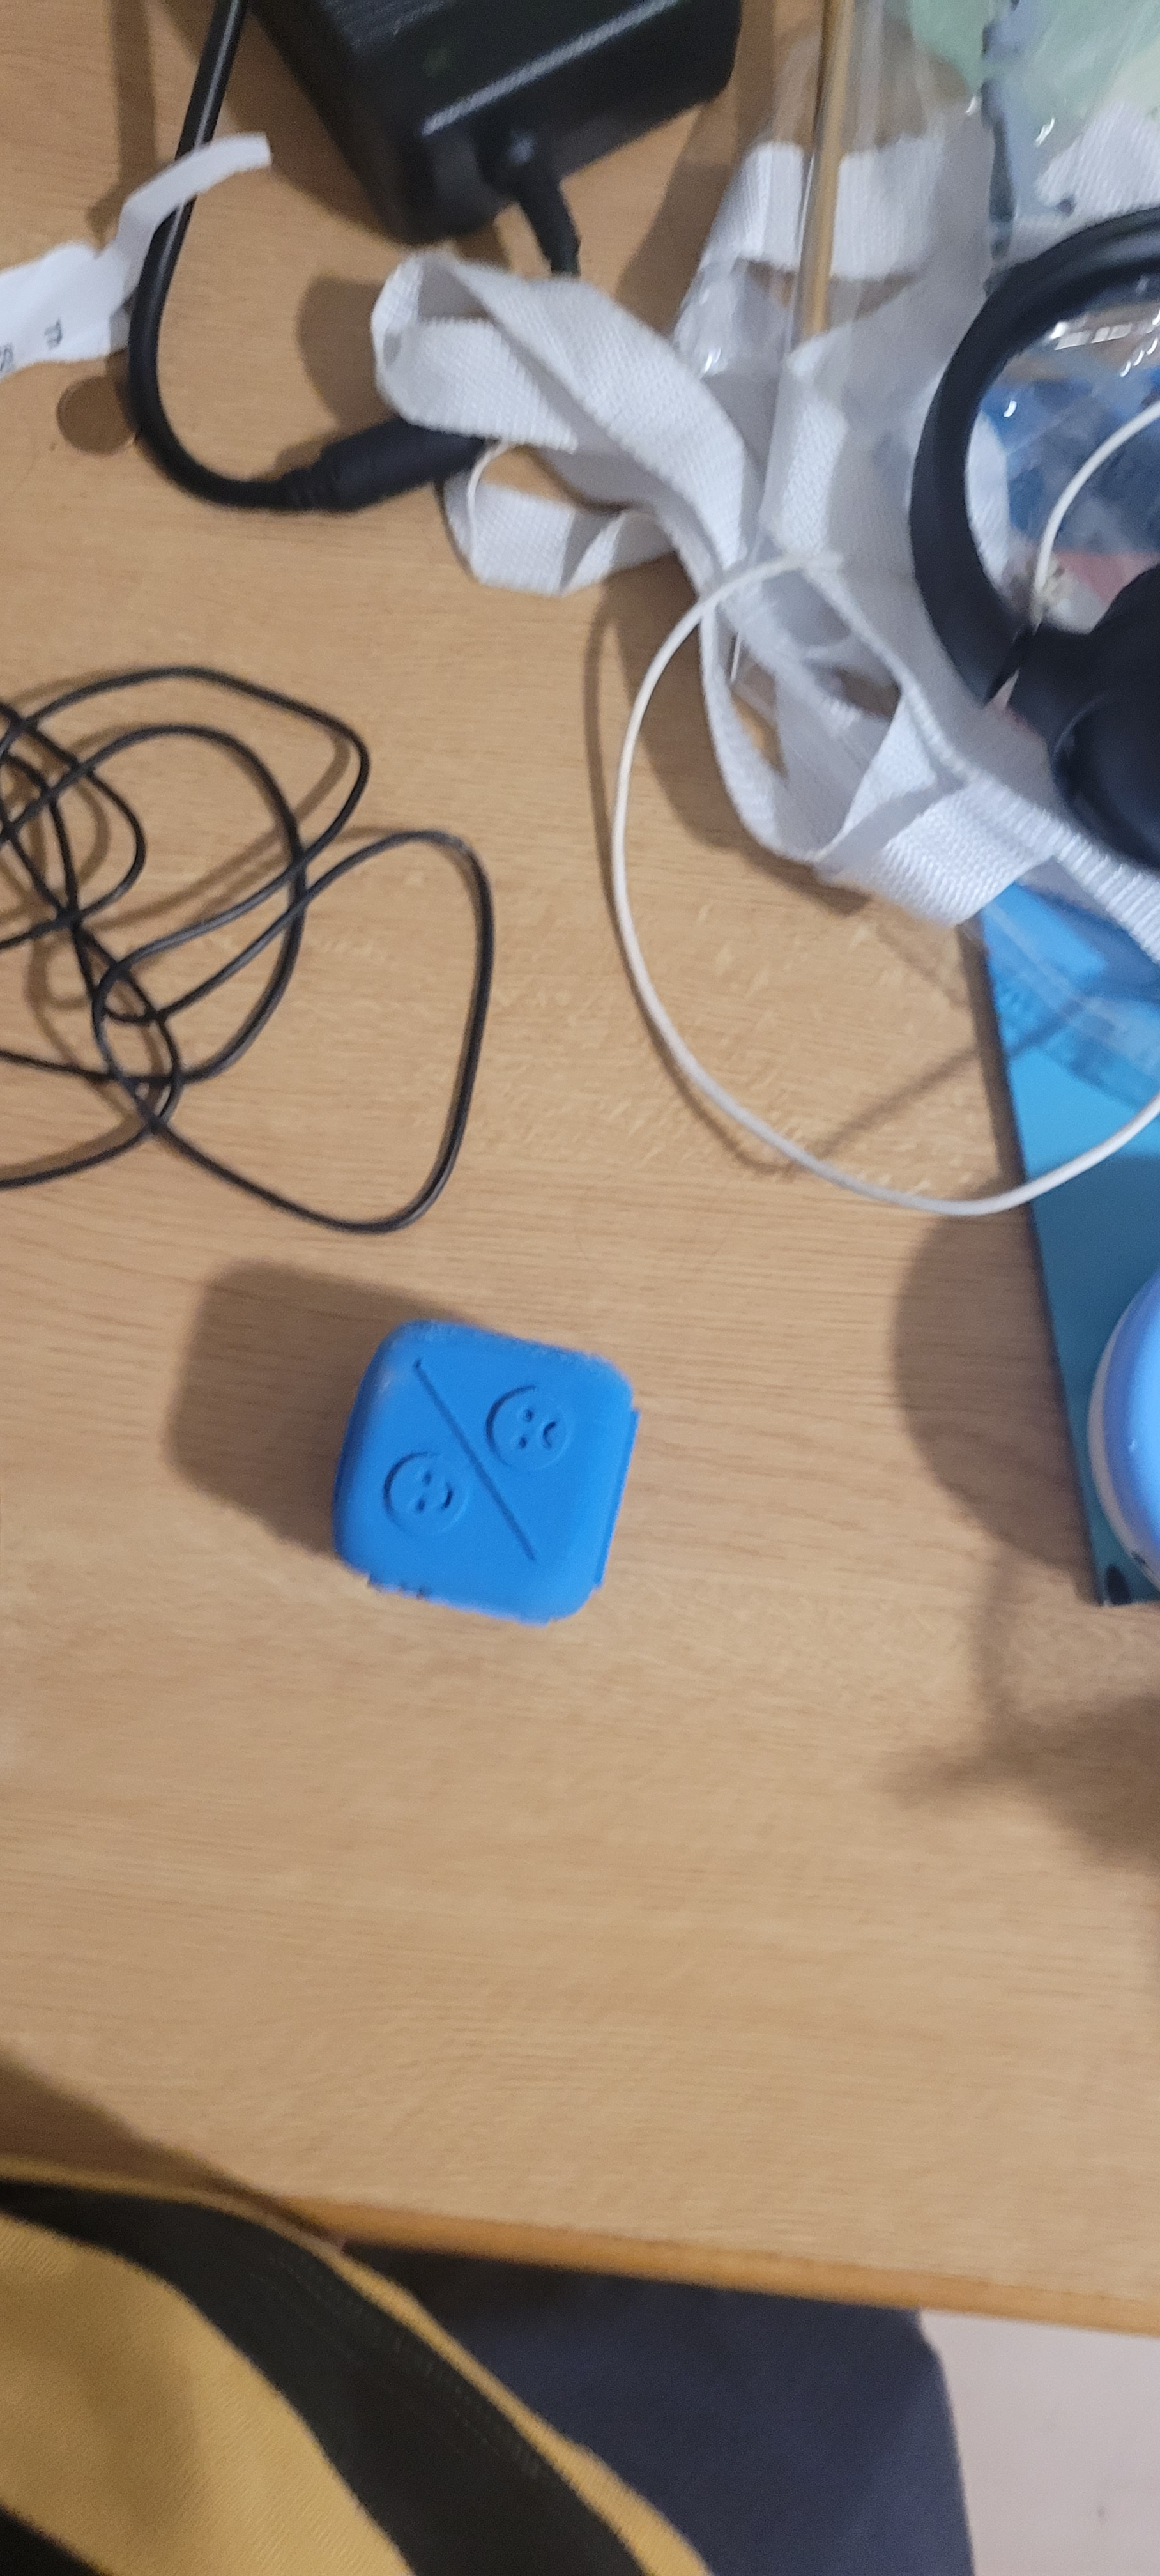Like/Dislike: (340, 1295, 608, 1659)
